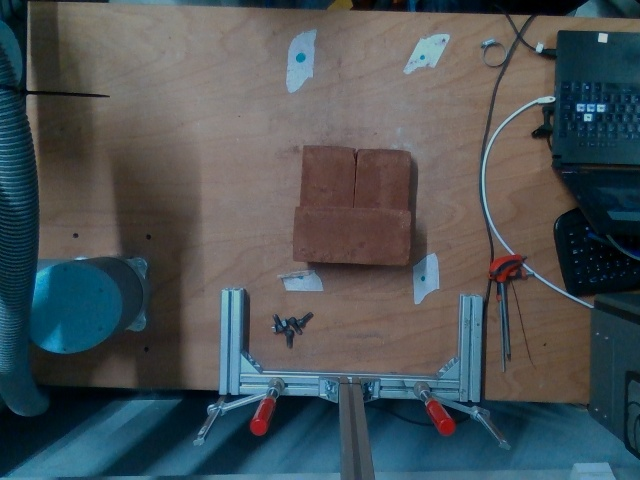brick: (294, 208, 410, 263)
